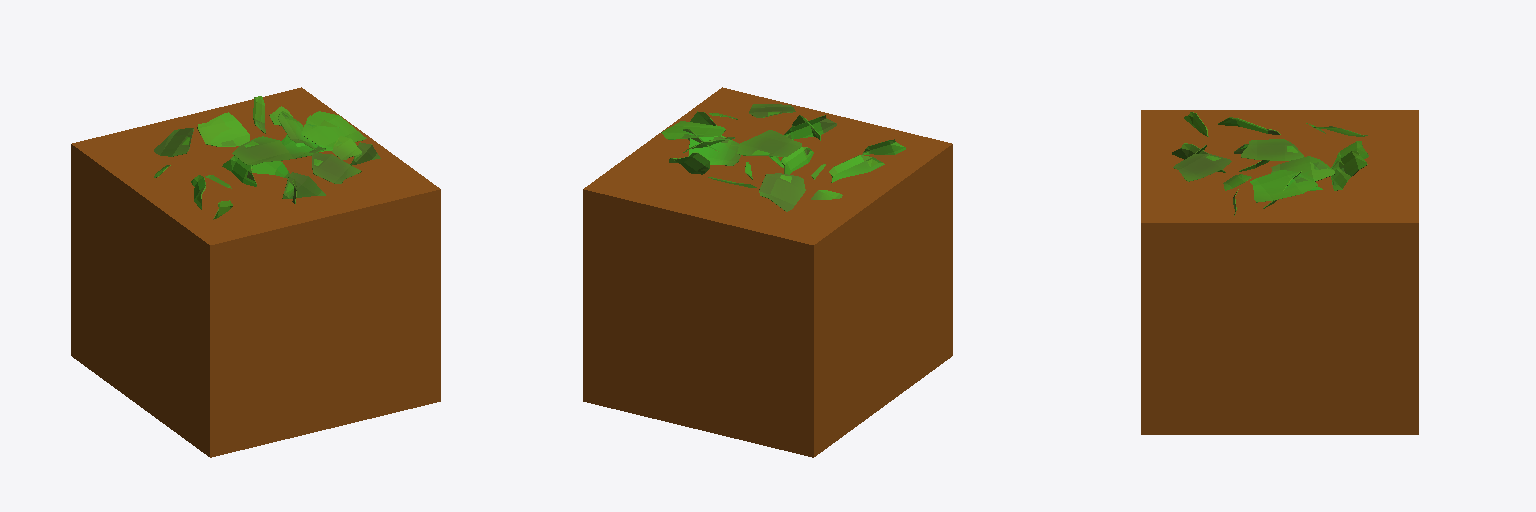
3 renders of one model, left to right at view 1: azimuth 30°, elevation 25°; view 2: azimuth 150°, elevation 25°; view 3: azimuth 270°, elevation 25°, orthographic.
Parts seen in each view (by area): view 1: Cube.009, Cube.020; view 2: Cube.009, Cube.020; view 3: Cube.009, Cube.020.
Boxes of the visible parts, x1=… form: Cube.009: x1=71, y1=87, x2=440, y2=457; Cube.020: x1=154, y1=96, x2=380, y2=219; Cube.009: x1=583, y1=87, x2=952, y2=457; Cube.020: x1=661, y1=104, x2=905, y2=211; Cube.009: x1=1141, y1=110, x2=1418, y2=434; Cube.020: x1=1172, y1=112, x2=1368, y2=215.
Bounding box in the file's own units: 2.74 × 2.78 × 2.86.
Materials: 2 (2 with a texture image).